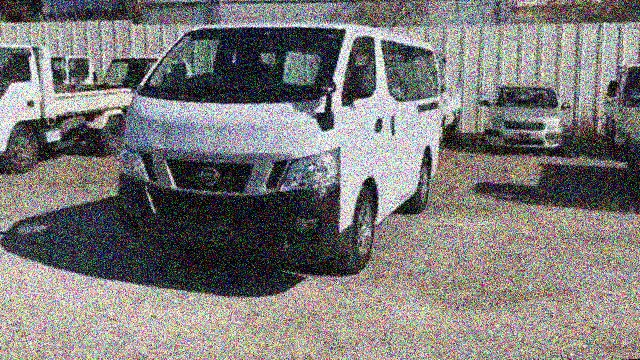van: (111, 13, 451, 278)
